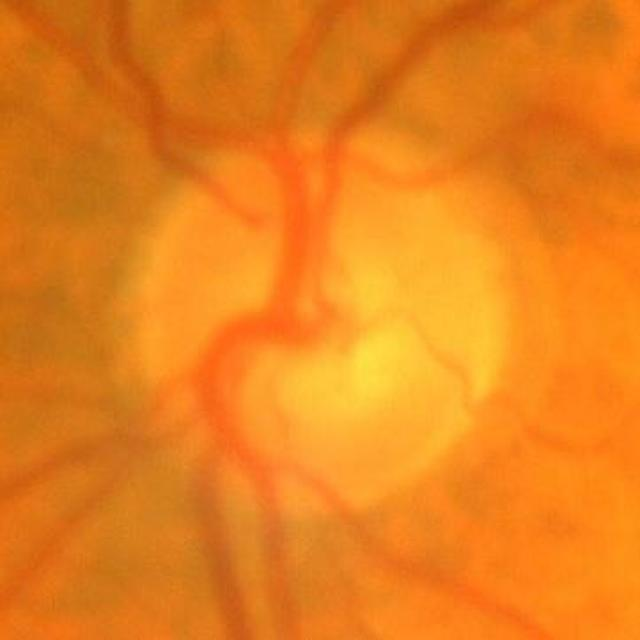OC: (221, 232, 418, 423)
OD: (119, 125, 509, 520)
